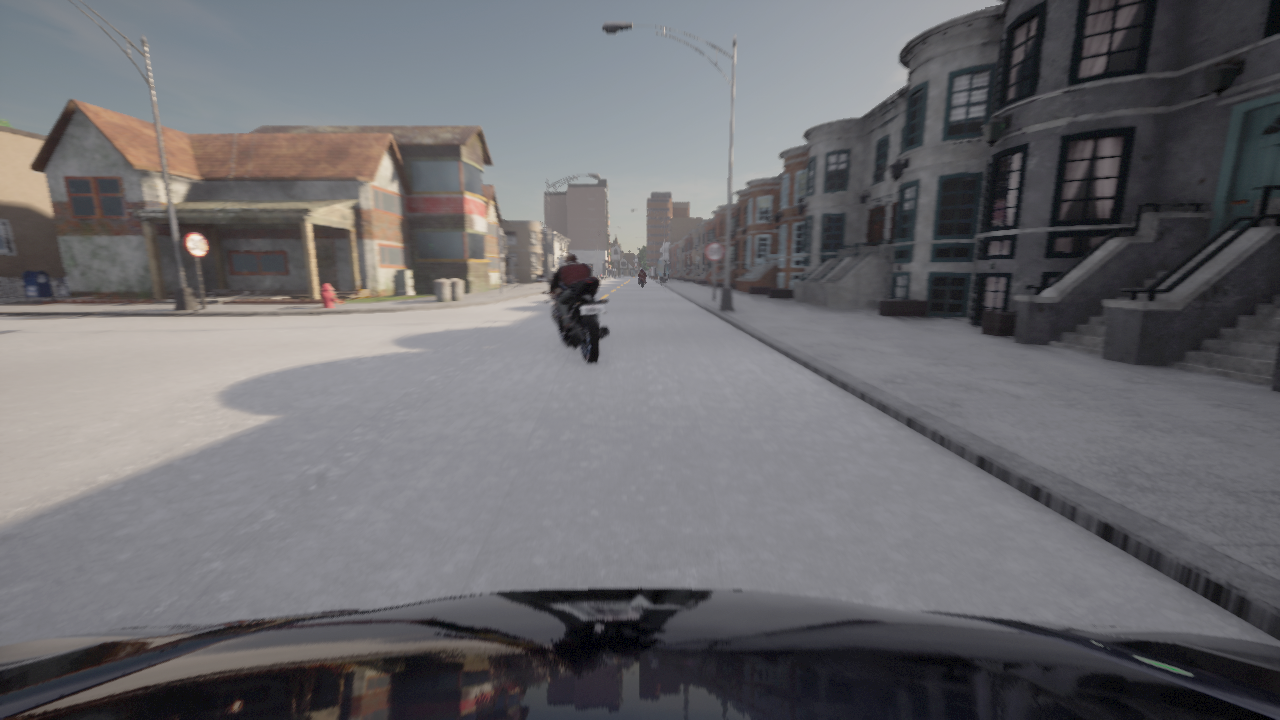cyclist: (0, 588, 1279, 719), (537, 275, 608, 362), (640, 274, 644, 286)
